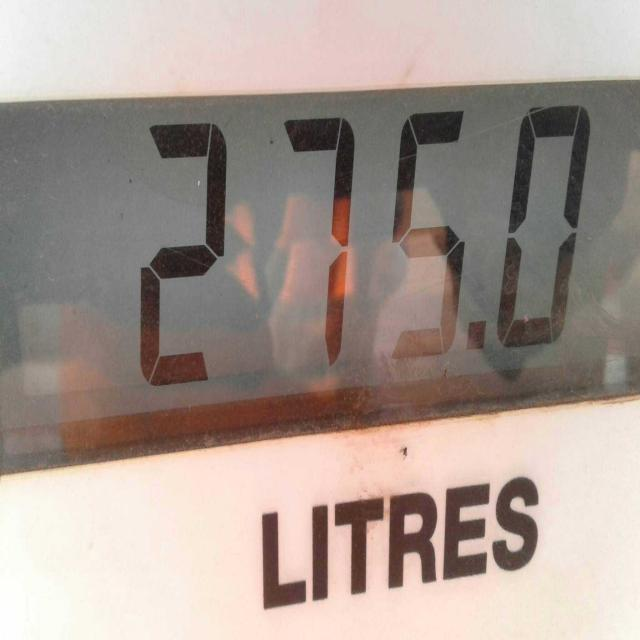.: (458, 309, 492, 372)
0: (488, 100, 610, 372)
2: (118, 120, 250, 402)
5: (375, 114, 469, 416)
7: (264, 100, 370, 400)
